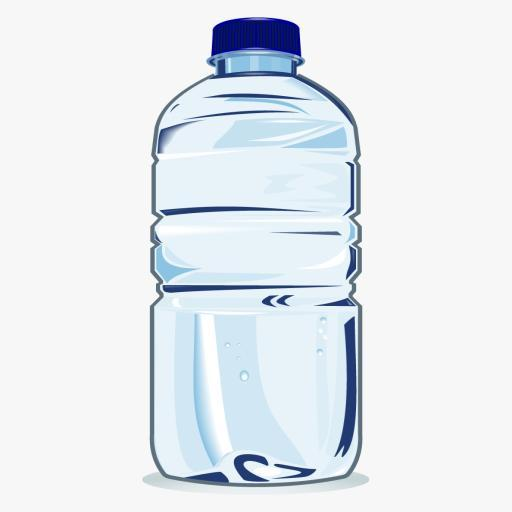bottle: (144, 12, 372, 494)
